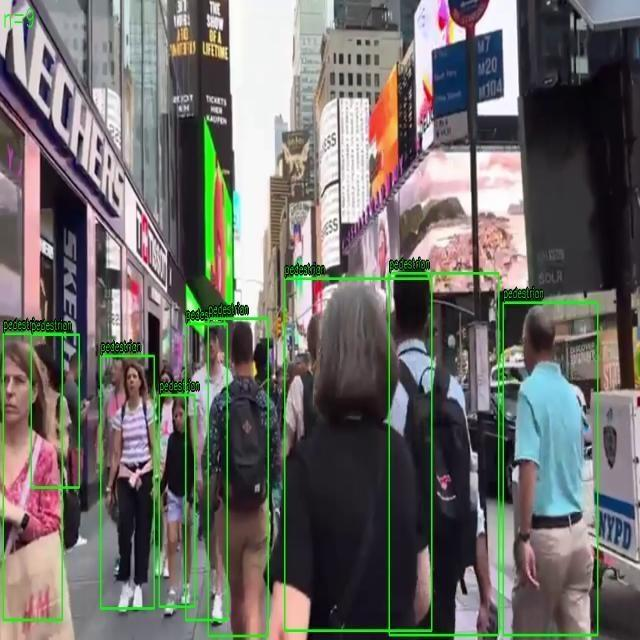person: (284, 278, 432, 631), (389, 272, 499, 636), (503, 302, 598, 636), (208, 318, 268, 636), (3, 334, 63, 620), (100, 356, 154, 608), (185, 324, 228, 620), (159, 394, 195, 608), (30, 334, 80, 488)
